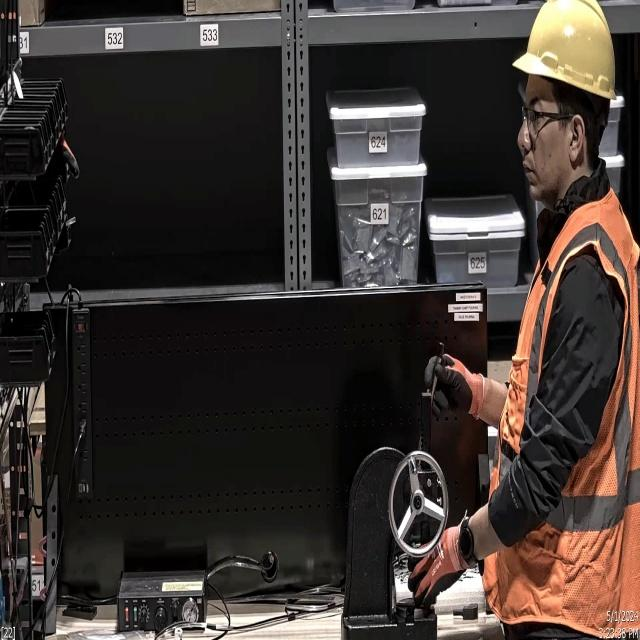gloves: (406, 516, 466, 612)
